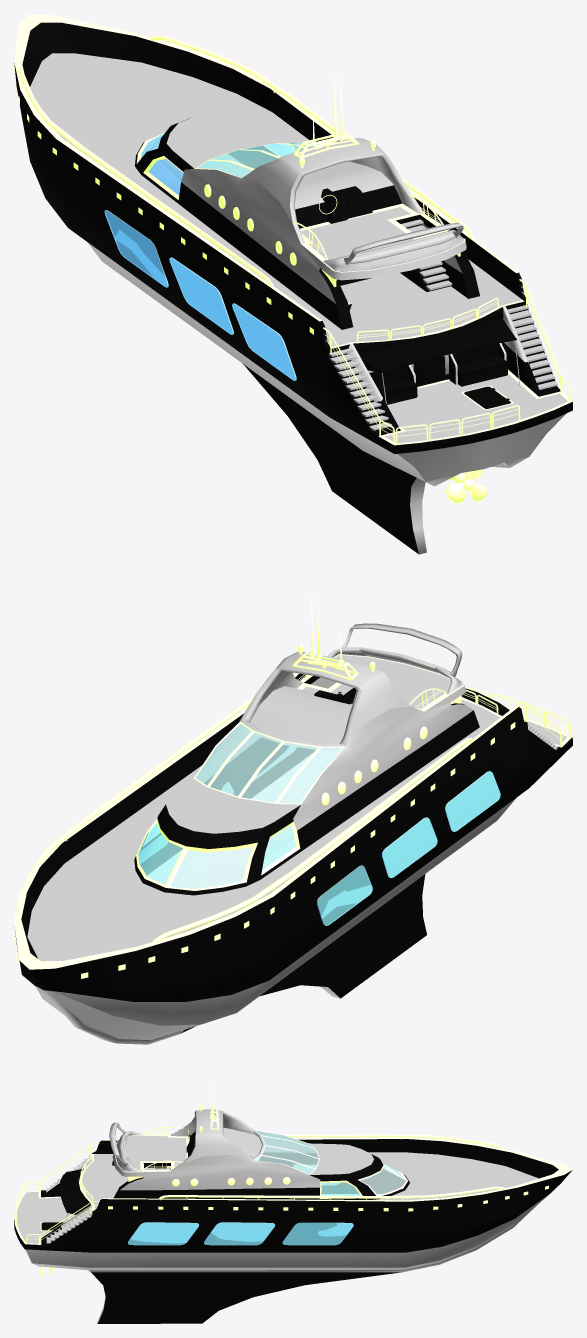
File: Yacht (1).fbx
3 views of the same model, one above another, from view 1: azimuth 30°, elevation 25°; view 2: azimuth 150°, elevation 25°; view 3: azimuth 270°, elevation 25° (orthographic). The views are drawn at different scales.
Parts seen in each view (by area): view 1: generic_item; view 2: generic_item; view 3: generic_item.
Part boxes in pixels (x1=…): generic_item: x1=14, y1=14, x2=572, y2=554; generic_item: x1=14, y1=585, x2=572, y2=1044; generic_item: x1=14, y1=1074, x2=572, y2=1323.
Size of the model in its own units: 4381 by 7993 by 16058.
